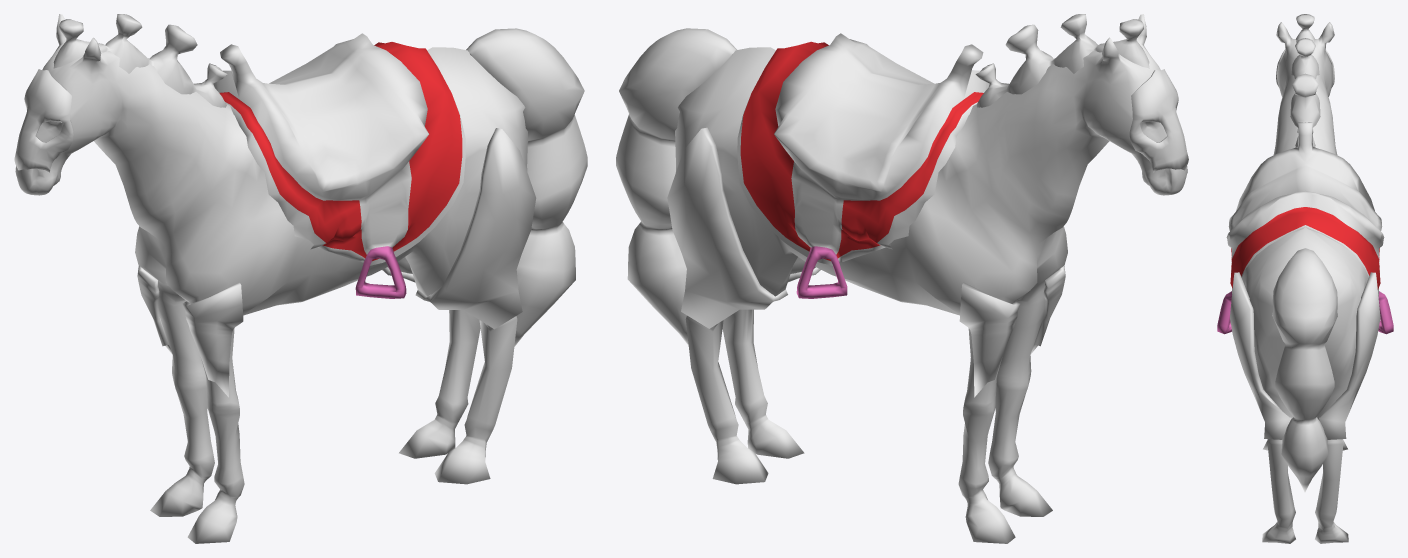
Rendered from big daddy texturing.fbx.
The picture shows the model from 3 angles, left to right: view 1: azimuth 30°, elevation 25°; view 2: azimuth 150°, elevation 25°; view 3: azimuth 270°, elevation 25°; orthographic projection. The views are drawn at different scales.
Parts seen in each view (by area): view 1: Cube.012_Retopo.001, Cube.001_Retopo, NurbsPath_Retopo, Cube.012_Retopo.003, Cube.015_Retopo, Cube.012_Retopo.004, Cube.012_Retopo.005; view 2: Cube.012_Retopo.001, Cube.001_Retopo, NurbsPath_Retopo, Cube.012_Retopo.003, Cube.015_Retopo, Cube.012_Retopo.004, Cube.012_Retopo.005; view 3: Cube.012_Retopo.001, Cube.001_Retopo, NurbsPath_Retopo, Cube.012_Retopo.003, Cube.015_Retopo.
Boxes of the visible parts, x1=… form: Cube.012_Retopo.001: x1=15, y1=14, x2=527, y2=543; Cube.001_Retopo: x1=213, y1=33, x2=465, y2=298; NurbsPath_Retopo: x1=466, y1=28, x2=587, y2=346; Cube.012_Retopo.003: x1=382, y1=128, x2=536, y2=329; Cube.015_Retopo: x1=53, y1=14, x2=227, y2=107; Cube.012_Retopo.004: x1=137, y1=266, x2=243, y2=397; Cube.012_Retopo.005: x1=14, y1=69, x2=73, y2=172; Cube.012_Retopo.001: x1=675, y1=14, x2=1187, y2=543; Cube.001_Retopo: x1=737, y1=33, x2=989, y2=298; NurbsPath_Retopo: x1=616, y1=28, x2=736, y2=345; Cube.012_Retopo.003: x1=667, y1=127, x2=820, y2=328; Cube.015_Retopo: x1=975, y1=14, x2=1149, y2=107; Cube.012_Retopo.004: x1=959, y1=266, x2=1065, y2=397; Cube.012_Retopo.005: x1=1129, y1=69, x2=1188, y2=172; Cube.012_Retopo.001: x1=1242, y1=22, x2=1368, y2=543; Cube.001_Retopo: x1=1217, y1=122, x2=1393, y2=334; NurbsPath_Retopo: x1=1272, y1=248, x2=1337, y2=492; Cube.012_Retopo.003: x1=1230, y1=272, x2=1380, y2=439; Cube.015_Retopo: x1=1290, y1=14, x2=1320, y2=147.
Bounding box in the file's own units: 94.81 × 255 × 229.
